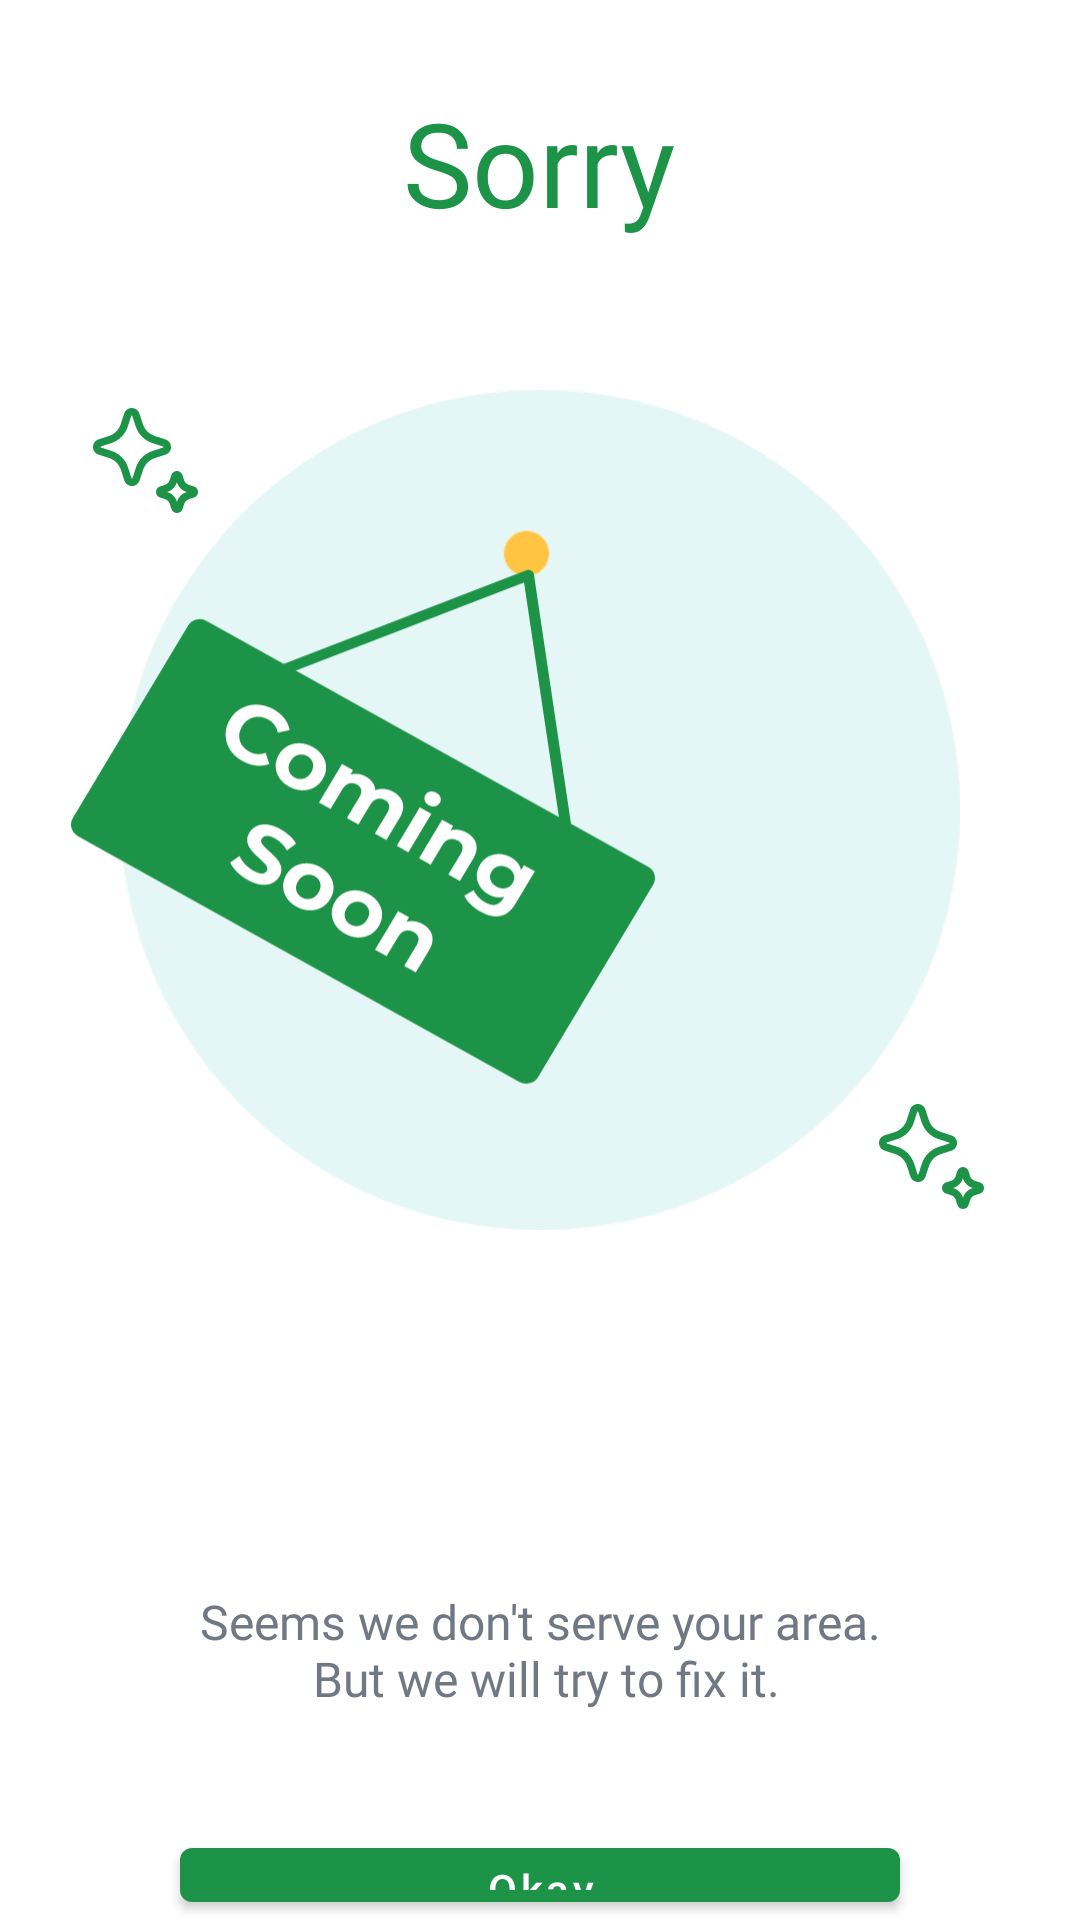

Named icons in this screenshot (1080px×1920px) and their bounding boxes, (x1, y1, x2, y2):
stars: (93, 408, 198, 513), (879, 1104, 984, 1209)
